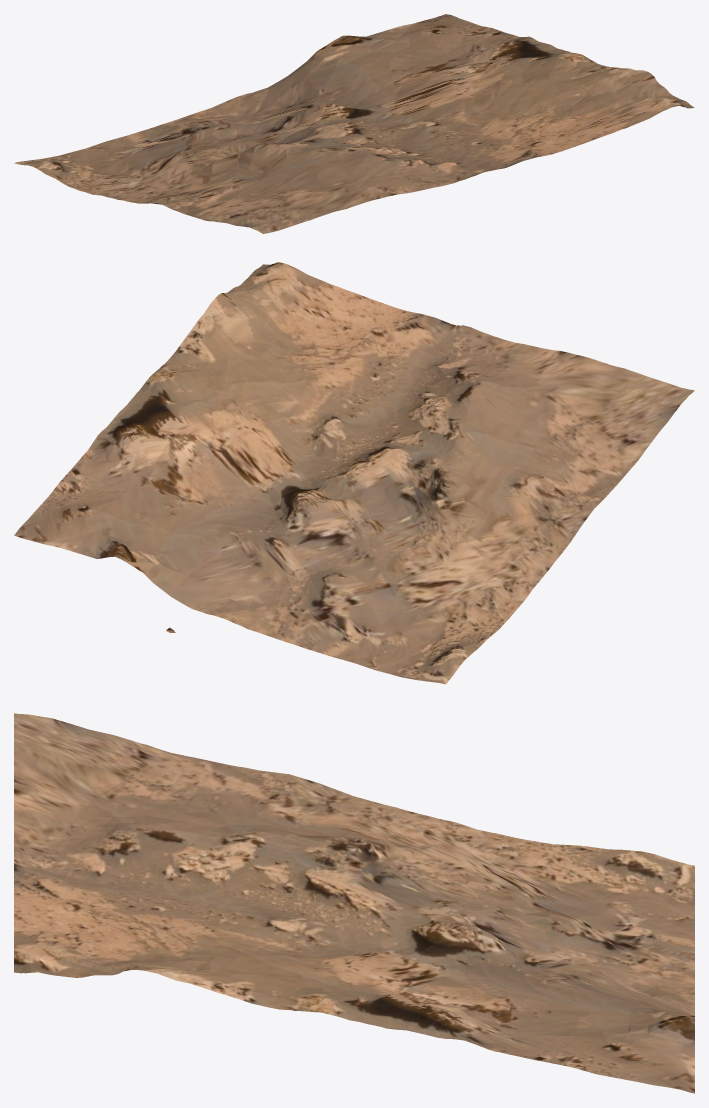
3 renders of one model, top to bottom at view 1: azimuth 30°, elevation 25°; view 2: azimuth 150°, elevation 25°; view 3: azimuth 270°, elevation 25°, orthographic. The views are drawn at different scales.
Size of the model in its own units: 2.09 by 0.7126 by 2.09.
2 materials, 2 textured.
